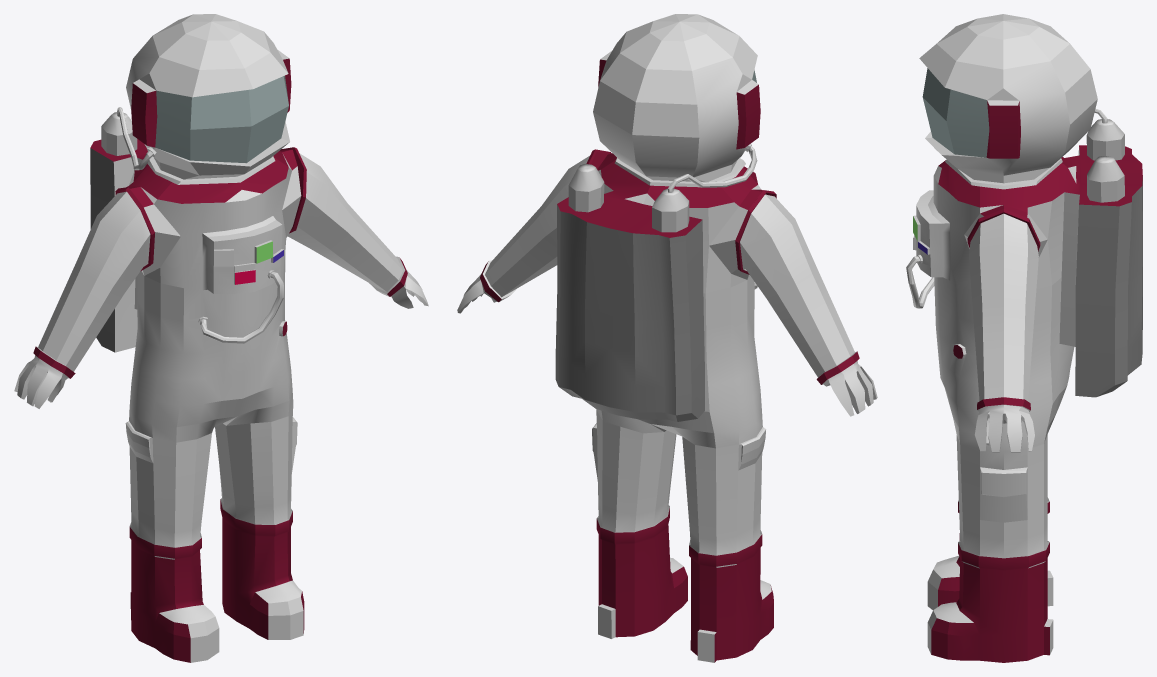
Rendered from AstroManTextured1.fbx.
3 views of the same model, side by side, from view 1: azimuth 30°, elevation 25°; view 2: azimuth 150°, elevation 25°; view 3: azimuth 270°, elevation 25° (orthographic).
Parts seen in each view (by area): view 1: pCylinder2; view 2: pCylinder2; view 3: pCylinder2.
Part boxes in pixels (box(x1,y1,x2,y2)): pCylinder2: box(14, 14, 428, 662); pCylinder2: box(457, 14, 877, 662); pCylinder2: box(906, 14, 1142, 662).
Size of the model in its own units: 127 by 185 by 65.51.
